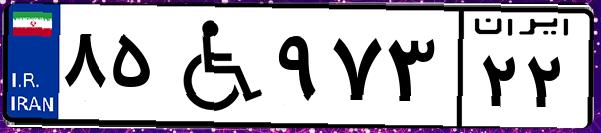2: (475, 38, 525, 113), (525, 38, 570, 115)
3: (385, 28, 445, 110)
5: (110, 28, 158, 98)
7: (330, 28, 385, 110)
8: (57, 26, 110, 100)
9: (270, 28, 330, 110)
ژ (معلولین و جانبازان): (158, 12, 270, 120)
